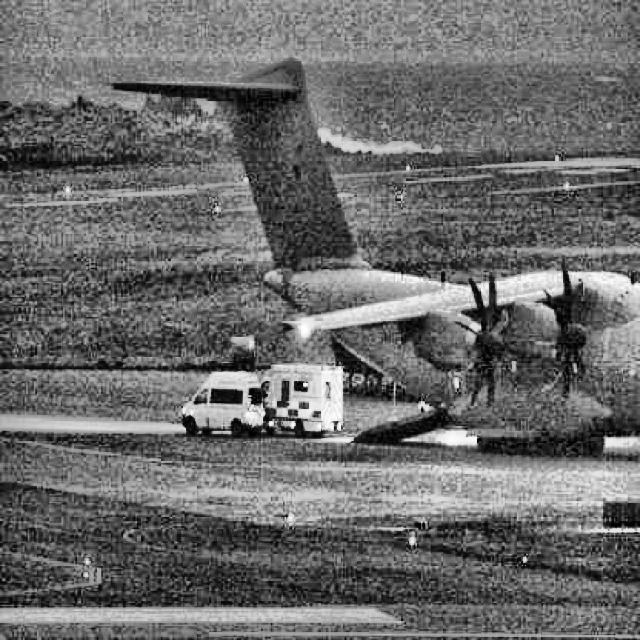A400M: (101, 57, 640, 453)
